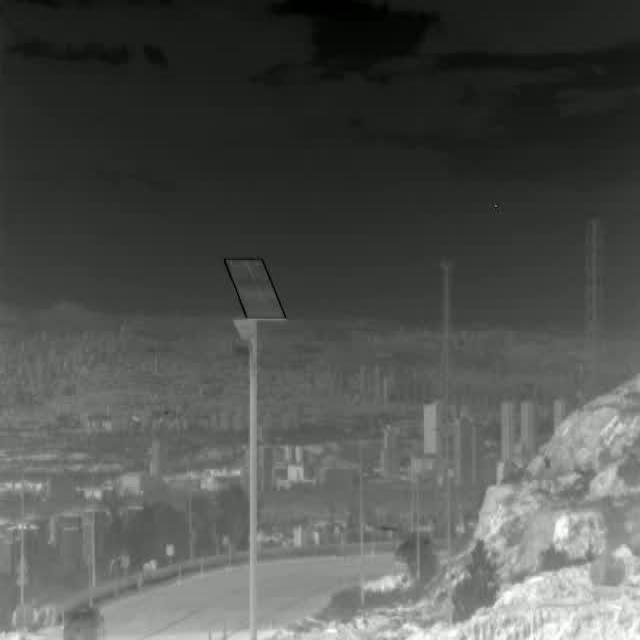Car: (60, 602, 104, 640), (399, 537, 434, 562)
